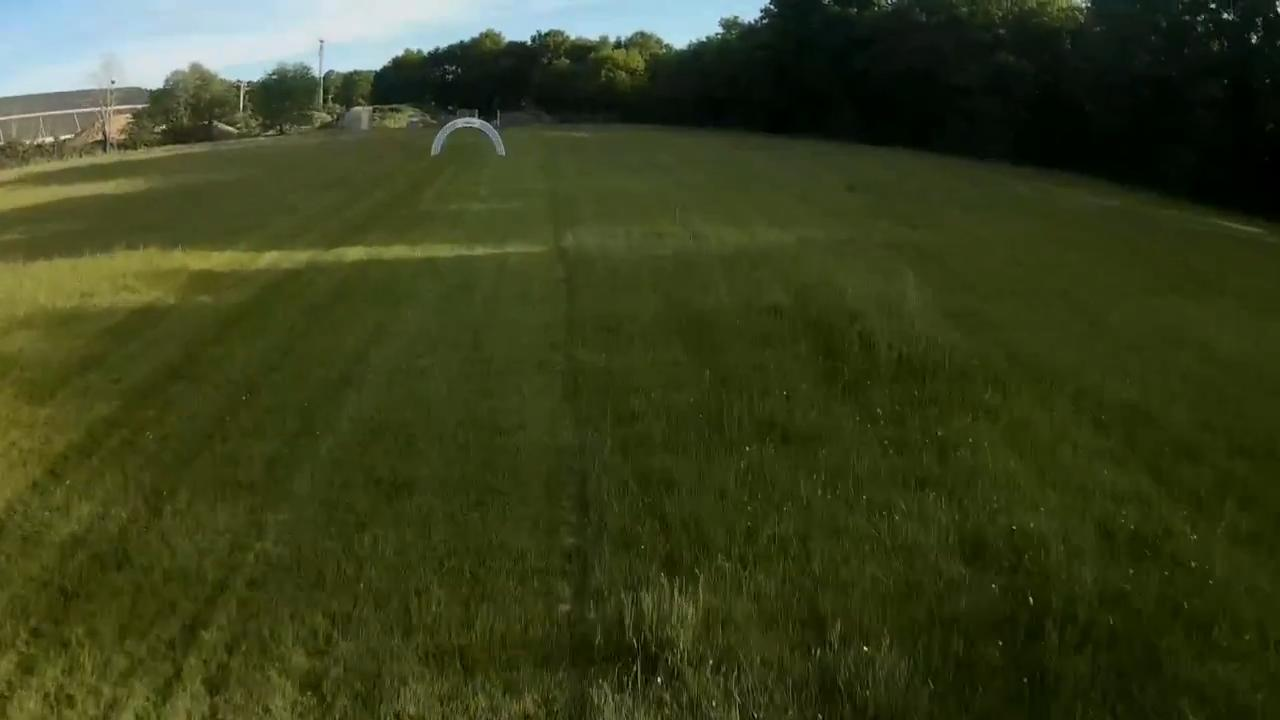gate: (428, 117, 508, 160)
